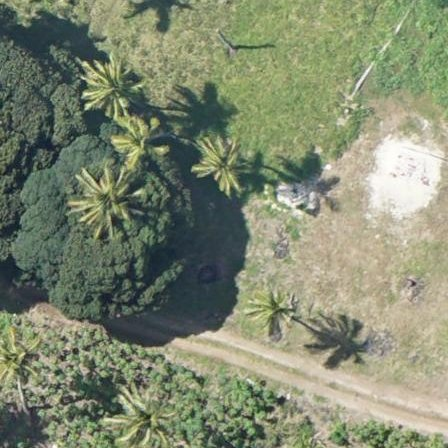palm_tree: (67, 163, 142, 239), (105, 387, 184, 448), (75, 59, 143, 123), (191, 136, 248, 201), (108, 118, 168, 171), (244, 289, 299, 340), (1, 328, 44, 391)
